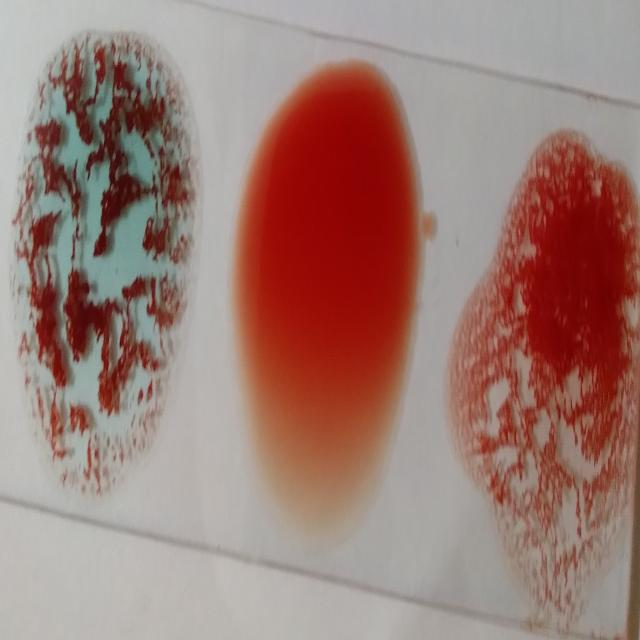A: (18, 34, 188, 482)
D: (465, 123, 633, 610)
